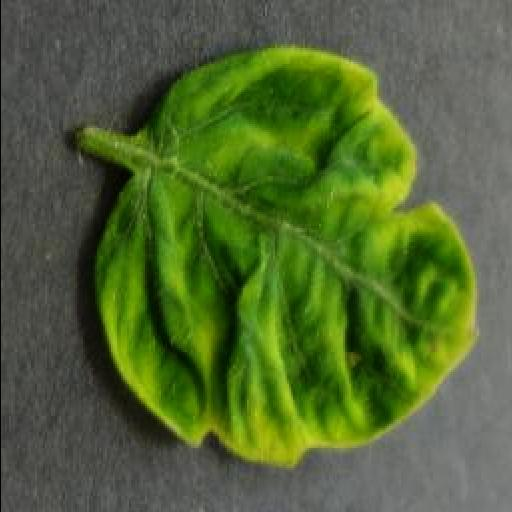disease_tomato: (96, 44, 478, 470)
